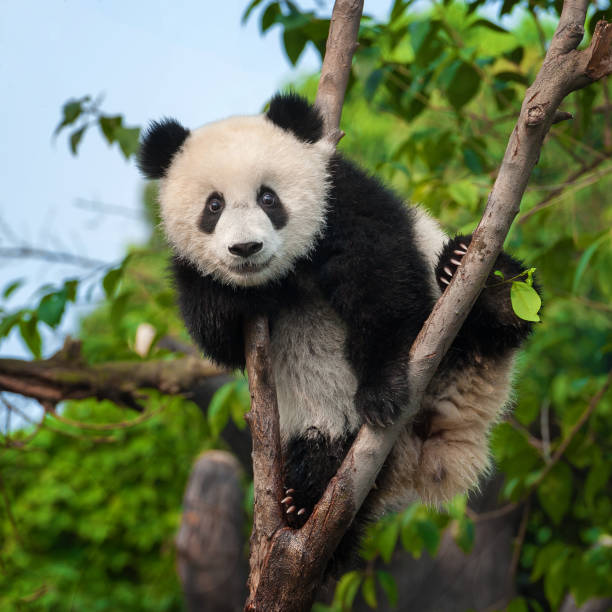panda: (113, 94, 355, 309)
